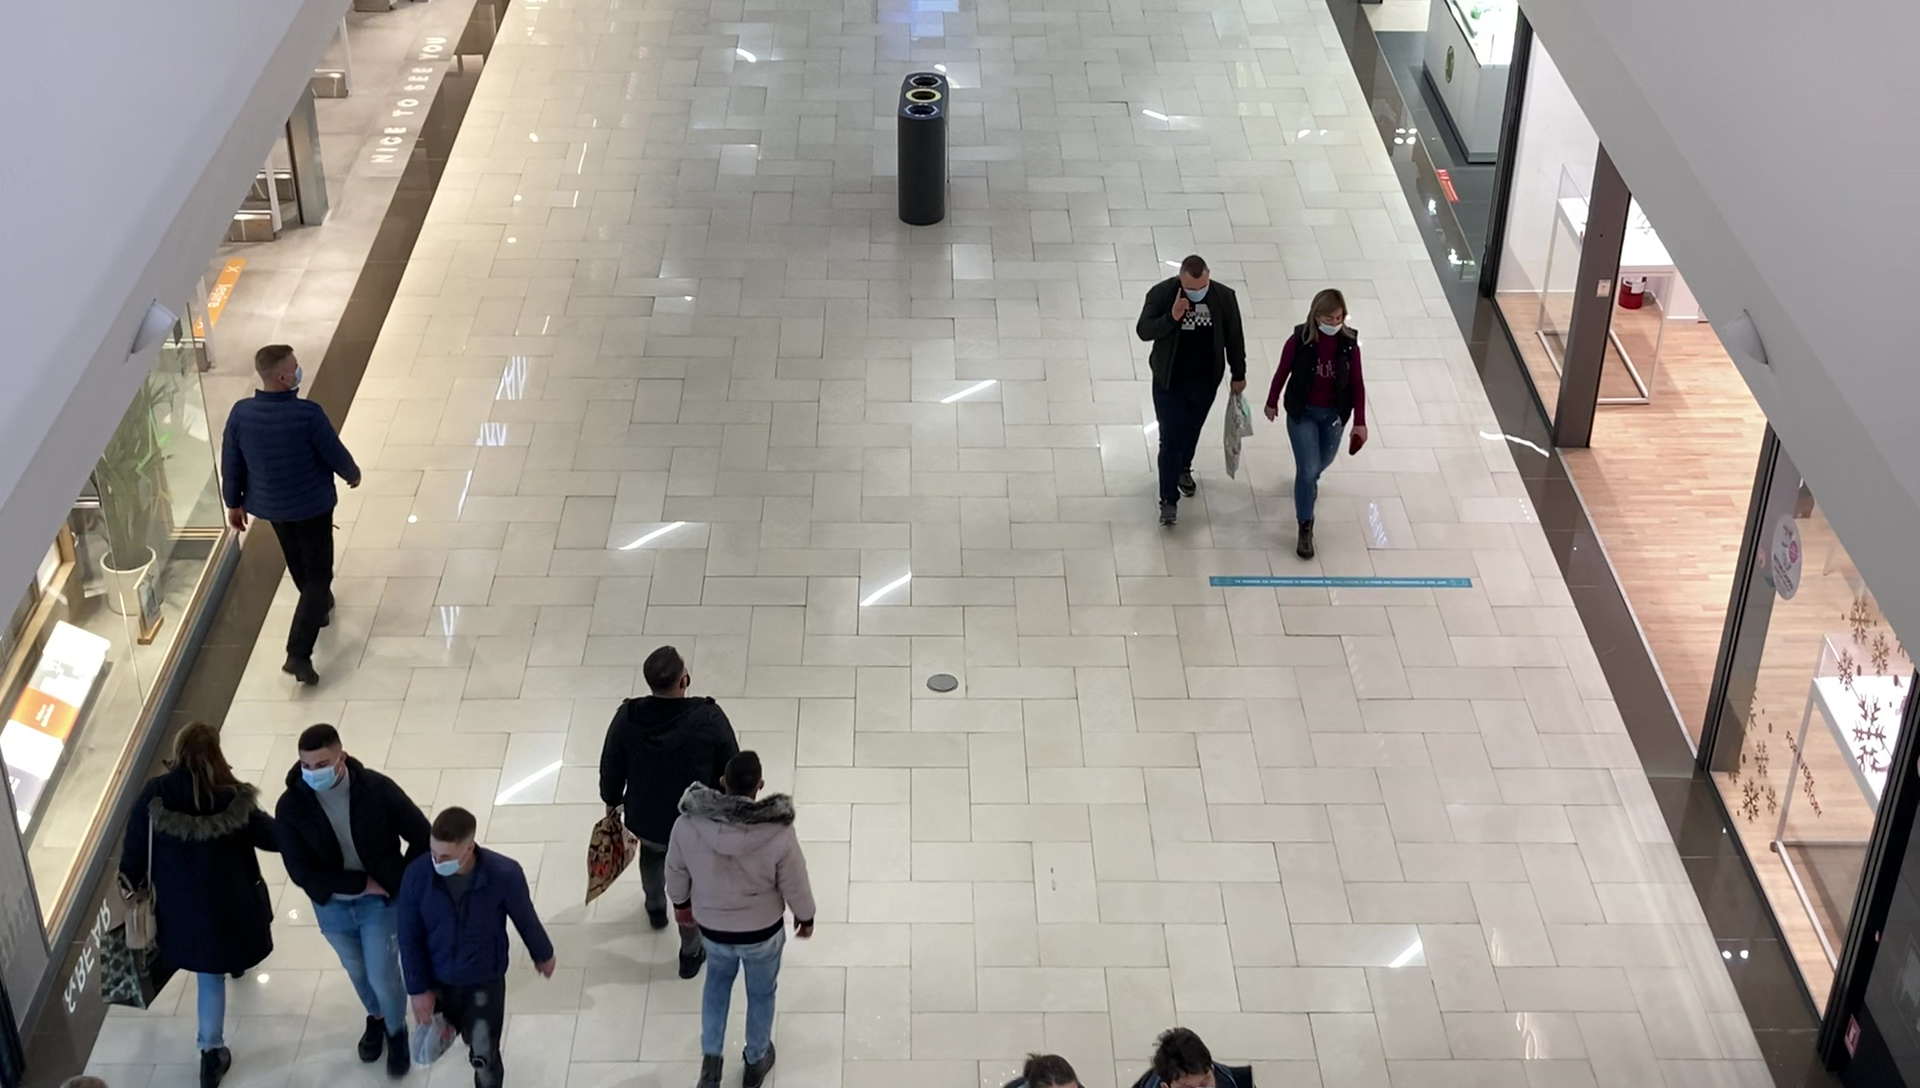person: (118, 721, 280, 1088), (279, 725, 424, 1078), (665, 753, 816, 1088), (221, 345, 361, 688), (400, 809, 557, 1088), (600, 648, 739, 927), (1138, 255, 1247, 530), (1264, 288, 1369, 561)
